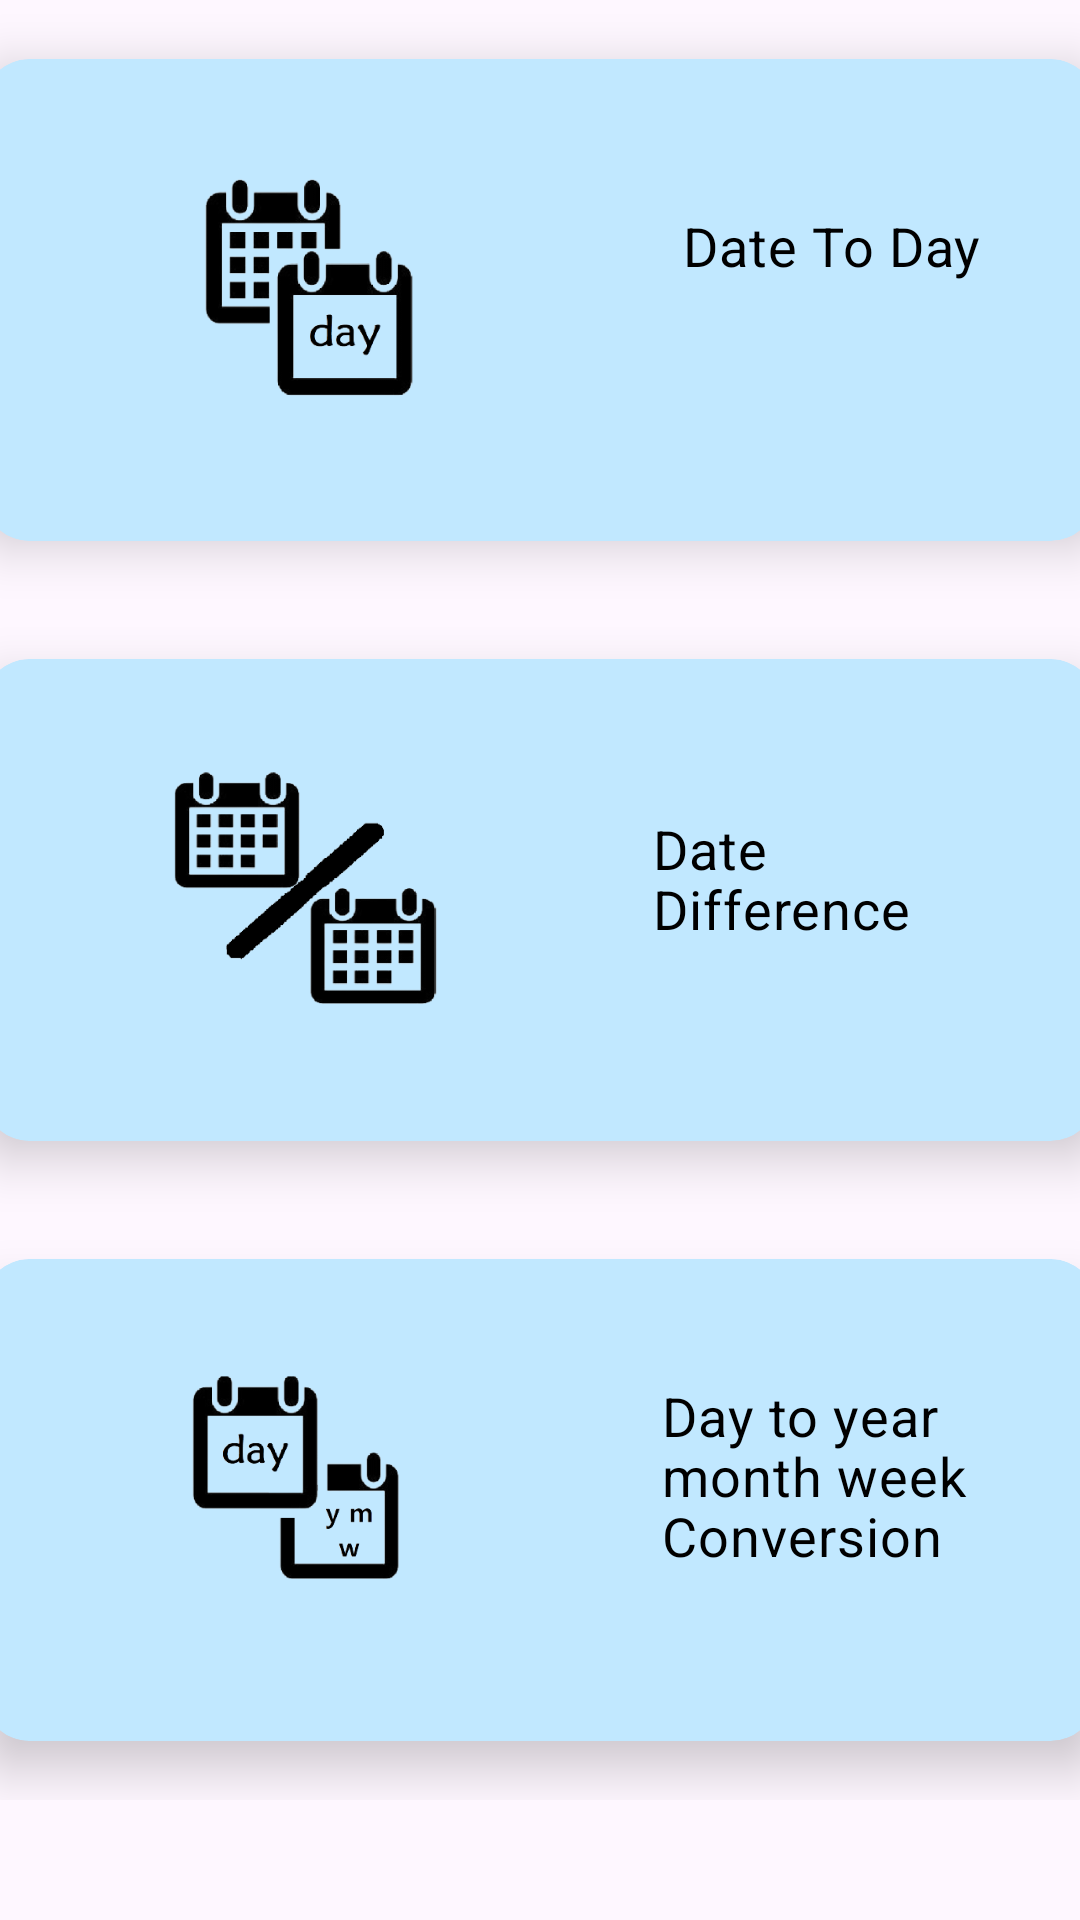

Icons on this 1080×1920 Android screen, each with its box as [x1=x1, y1=y1, x2=x2, y2=y2]:
dateday: [x1=205, y1=179, x2=413, y2=395]
dayear: [x1=193, y1=1376, x2=399, y2=1579]
difdate: [x1=175, y1=772, x2=437, y2=1004]
